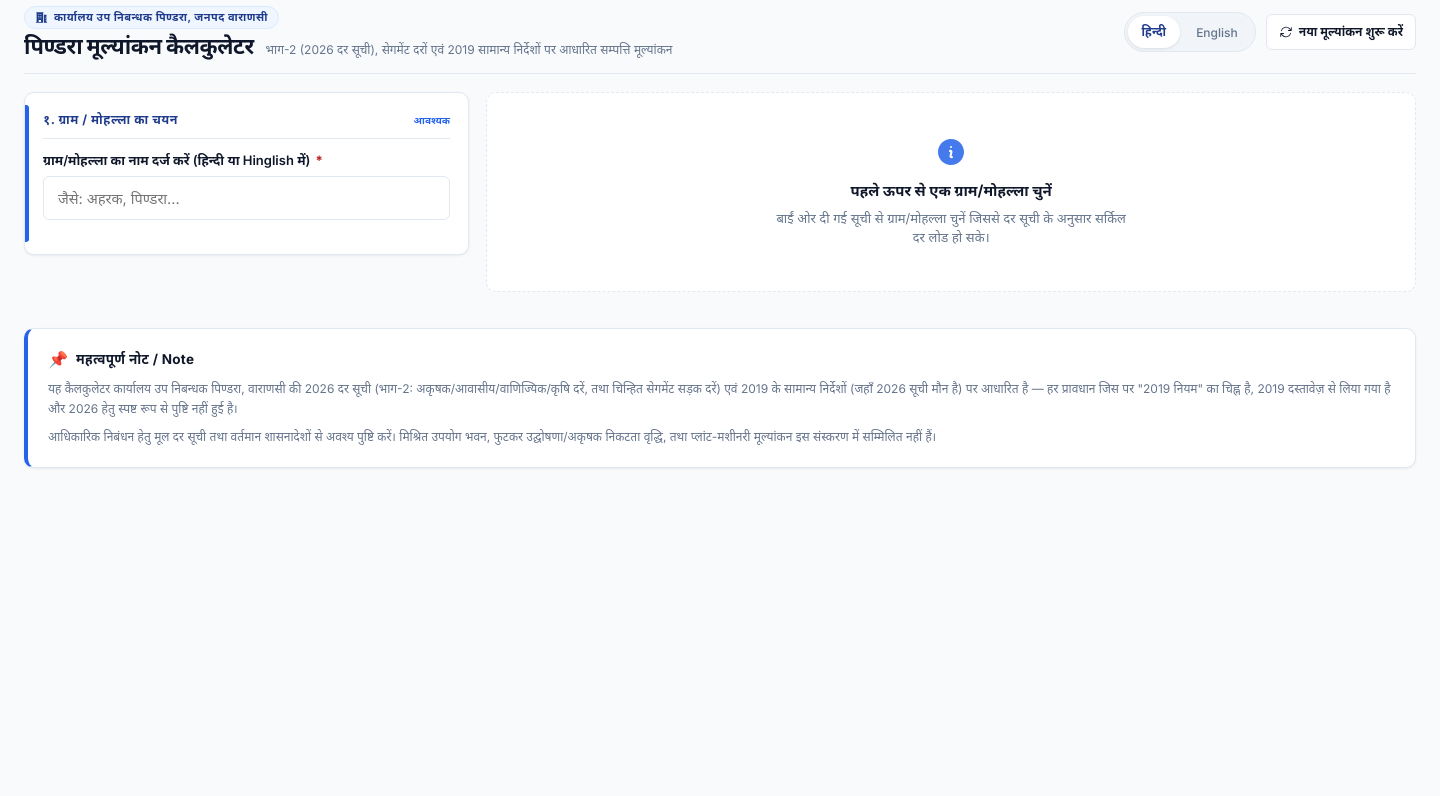
Scenario: App - end-to-end calculation flow › shows an inline error and does not calculate when area is missing
Type "aharak" into the dropdown labelled "ग्राम/मोहल्ला का नाम दर्ज करें (हिन्दी या Hinglish में) *" at (247, 198), box [43,176,450,220]
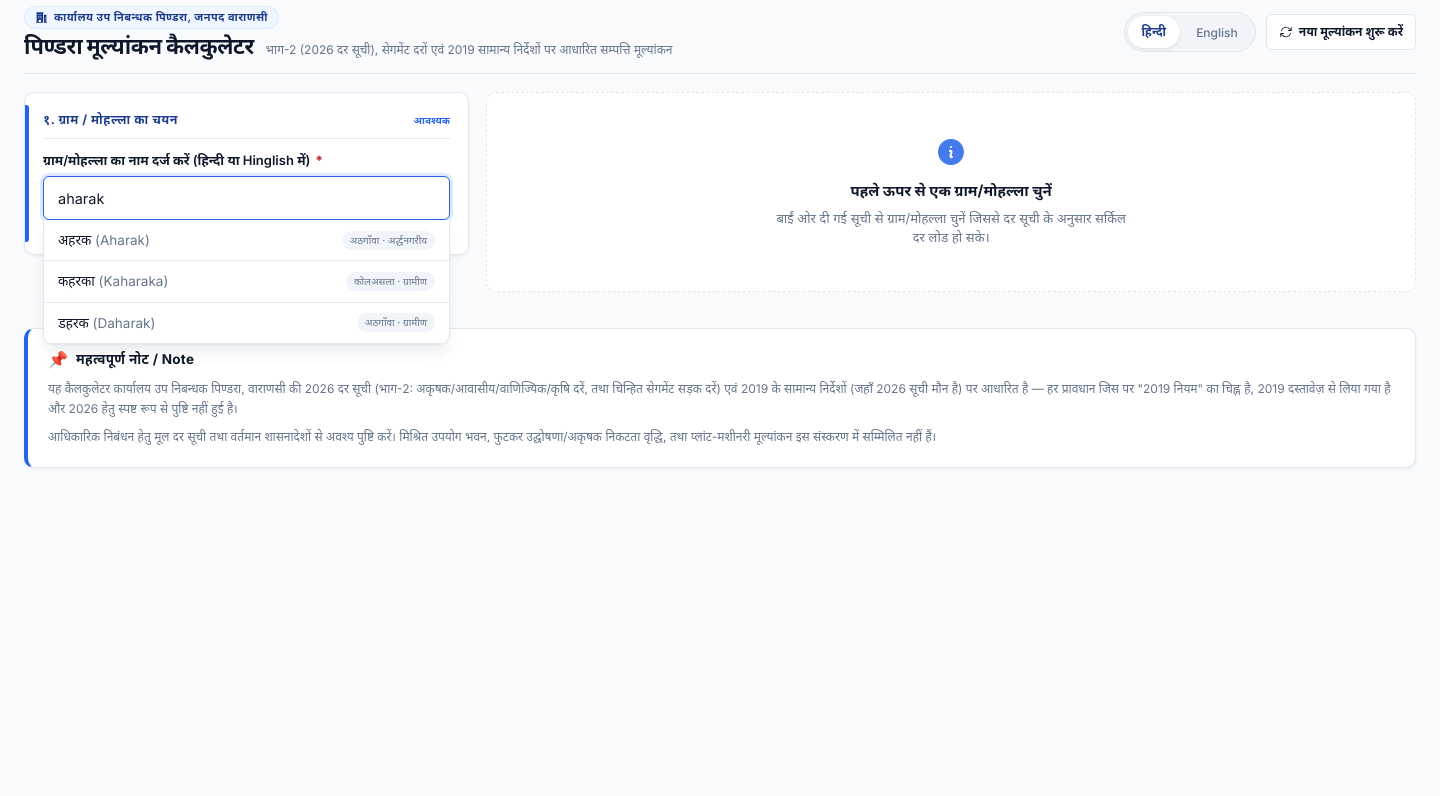
Click the option "अहरक (Aharak) अठगाँवा · अर्द्धनगरीय" at (75, 240), box [44,220,449,261]
(page scrolled)
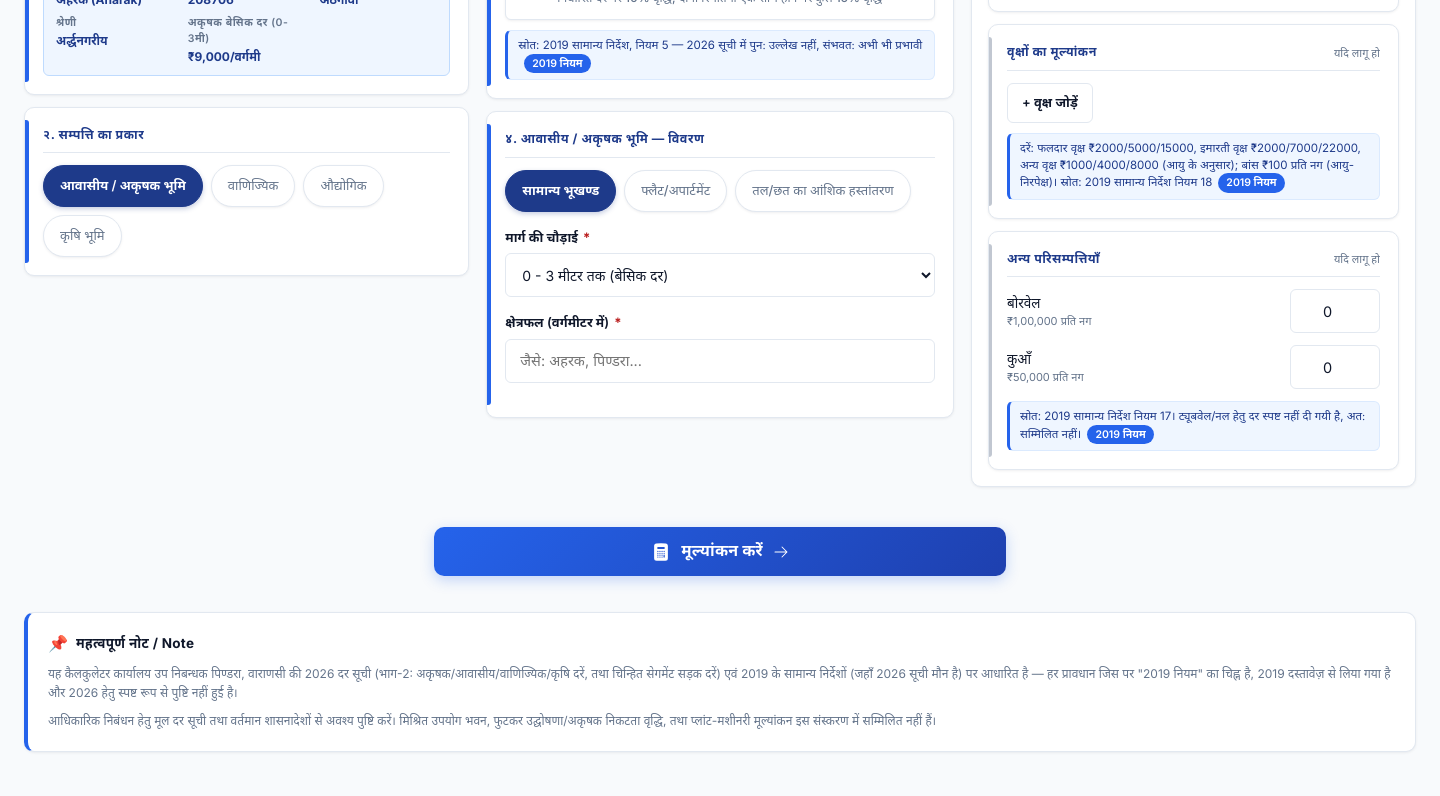
Click the button "मूल्यांकन करें" at (720, 552), box [434,527,1006,576]
(page scrolled)
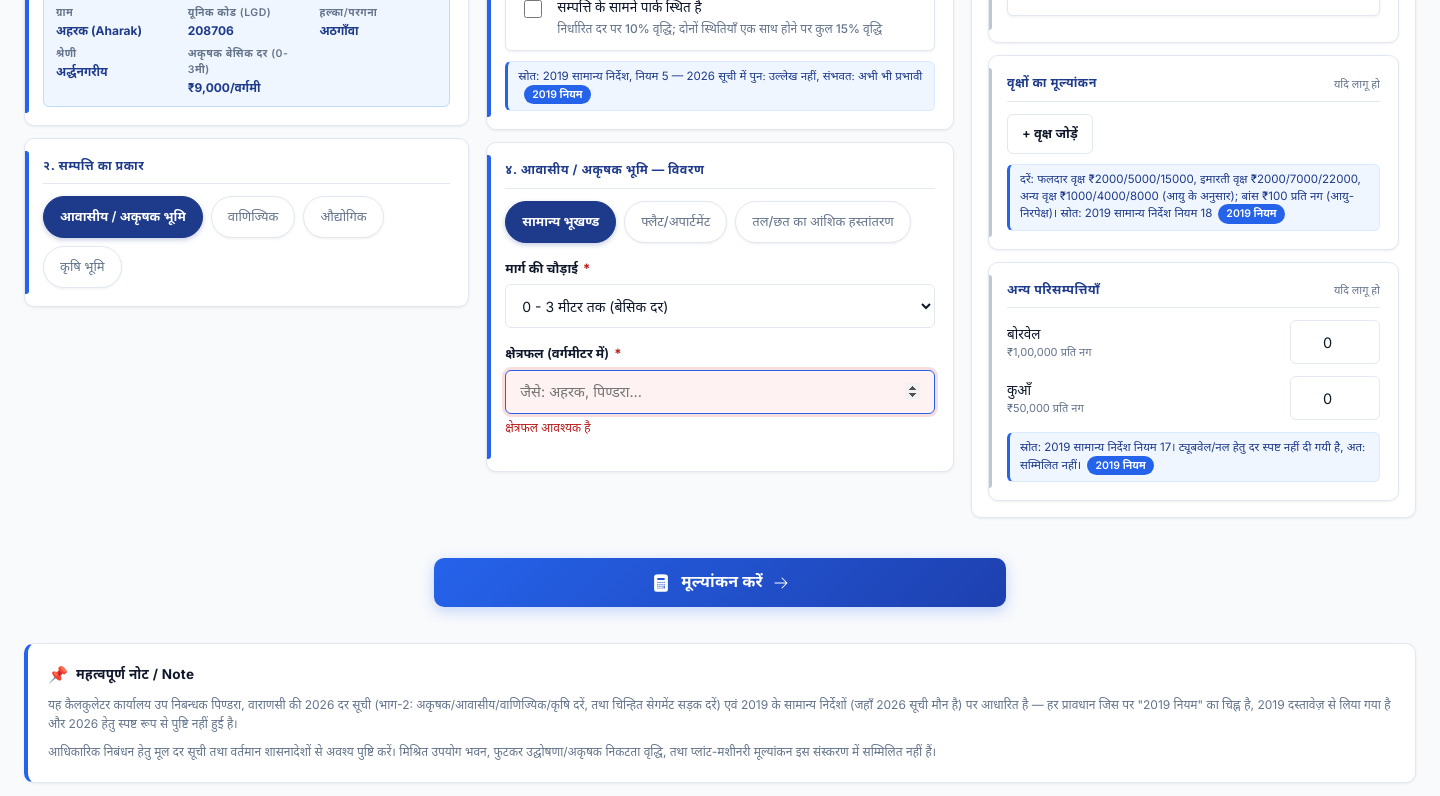
Now the message reads "क्षेत्रफल आवश्यक है", box [505,420,591,435]
